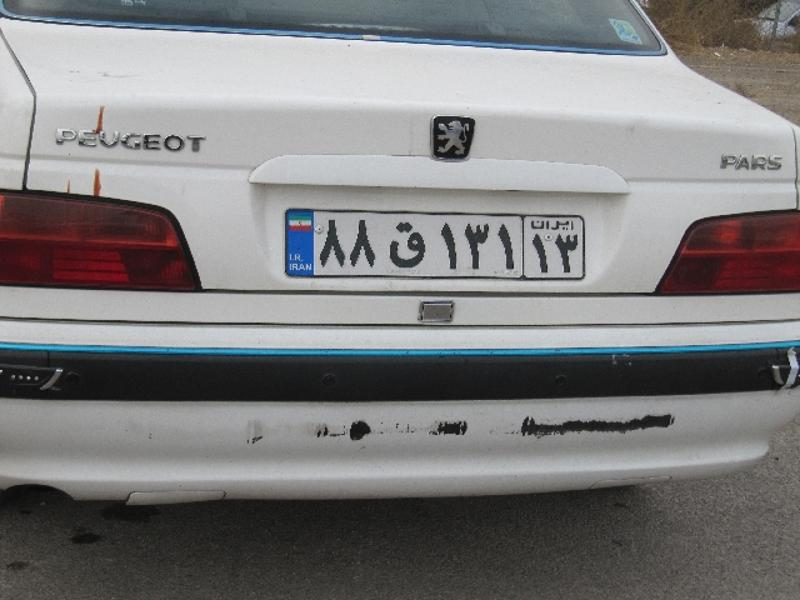Plate: (286, 208, 585, 280)
